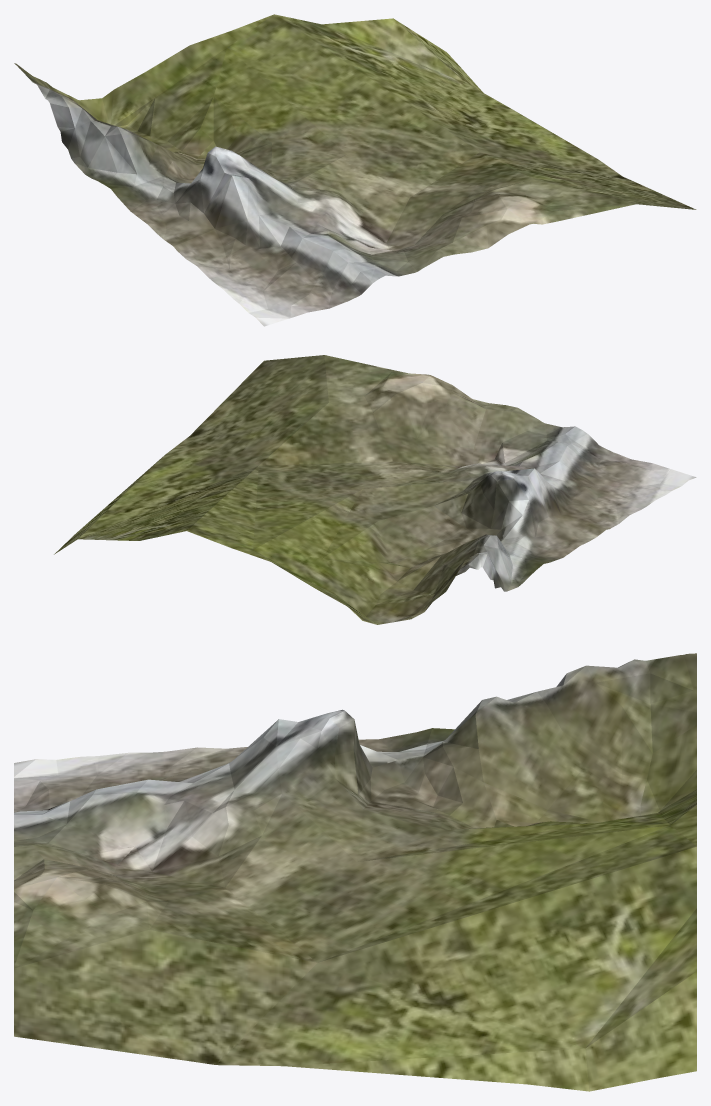
The picture shows the model from 3 angles, top to bottom: view 1: azimuth 30°, elevation 25°; view 2: azimuth 150°, elevation 25°; view 3: azimuth 270°, elevation 25°; orthographic projection. The views are drawn at different scales.
Bounding box in the file's own units: 2.95 × 0.7126 × 2.95.
3 materials, 3 textured.
